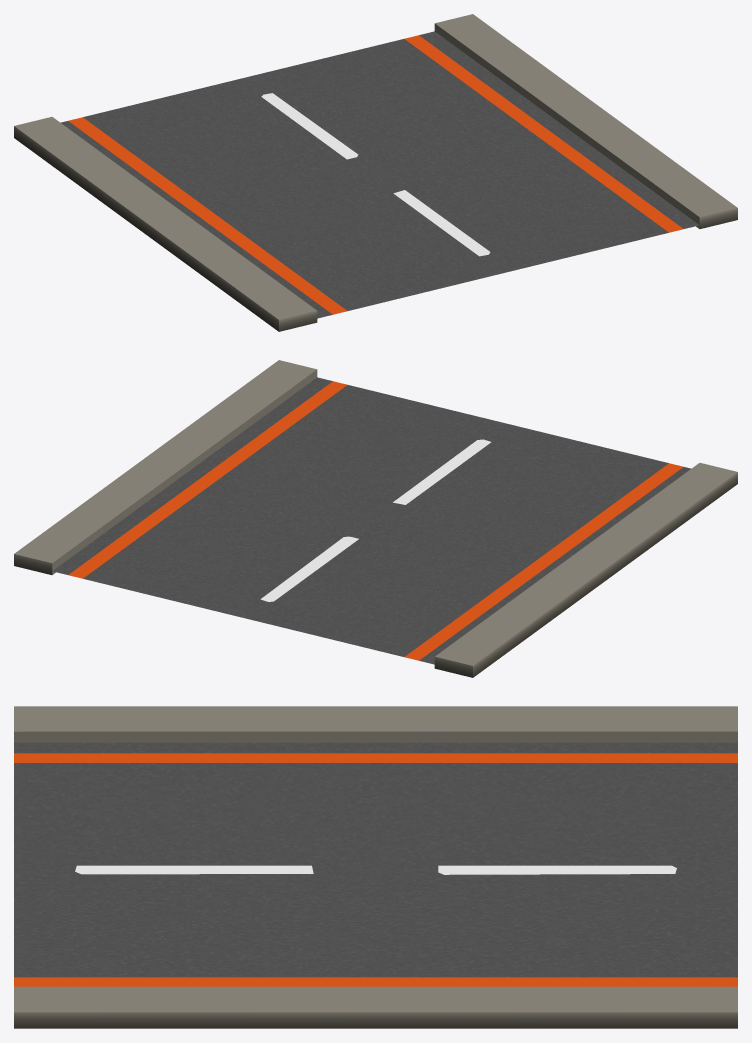
File: R1_with_line.fbx
The picture shows the model from 3 angles, top to bottom: view 1: azimuth 30°, elevation 25°; view 2: azimuth 150°, elevation 25°; view 3: azimuth 270°, elevation 25°; orthographic projection. The views are drawn at different scales.
Parts seen in each view (by area): view 1: Road_1A001; view 2: Road_1A001; view 3: Road_1A001.
Part boxes in pixels (box(x1,y1,x2,y2)): Road_1A001: box(14, 14, 737, 331); Road_1A001: box(14, 360, 737, 677); Road_1A001: box(14, 706, 737, 1028).
Size of the model in its own units: 14949 by 374 by 14949.
